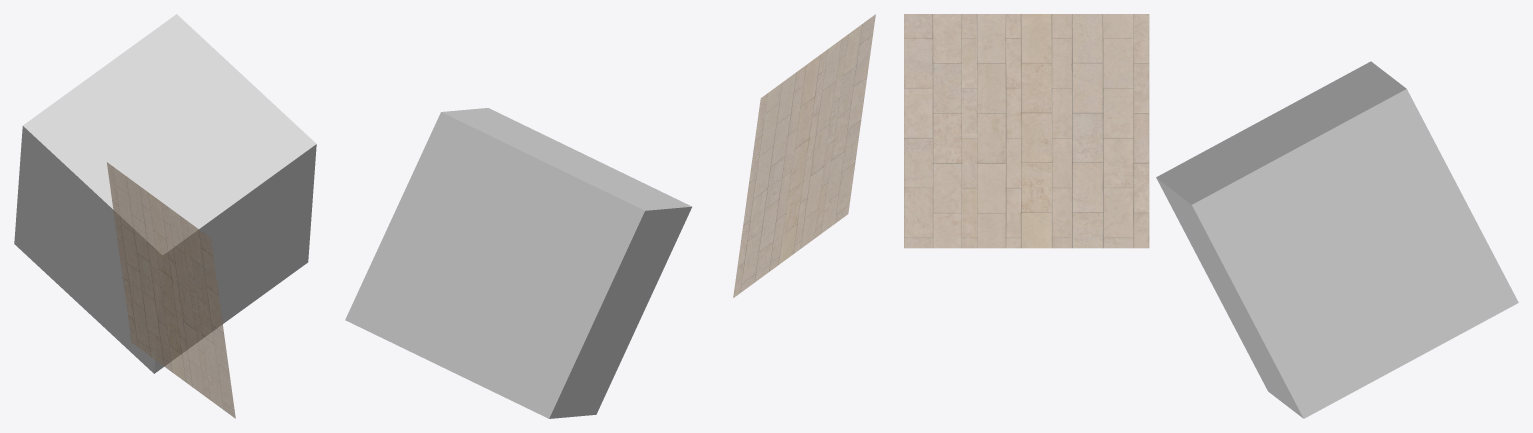
File: materials2.dae
3 views of the same model, side by side, from view 1: azimuth 30°, elevation 25°; view 2: azimuth 150°, elevation 25°; view 3: azimuth 270°, elevation 25° (orthographic). The views are drawn at different scales.
Parts seen in each view (by area): view 1: Cube, Plane; view 2: Cube, Plane; view 3: Cube, Plane.
Boxes of the visible parts, box(x1,y1,x2,y2) form: Cube: box(14, 14, 316, 373); Plane: box(107, 162, 235, 418); Cube: box(345, 108, 691, 418); Plane: box(733, 14, 875, 297); Cube: box(1156, 61, 1518, 418); Plane: box(904, 14, 1149, 248).
Size of the model in its own units: 2.96 by 5.02 by 3.15.
1 material, 1 textured.
